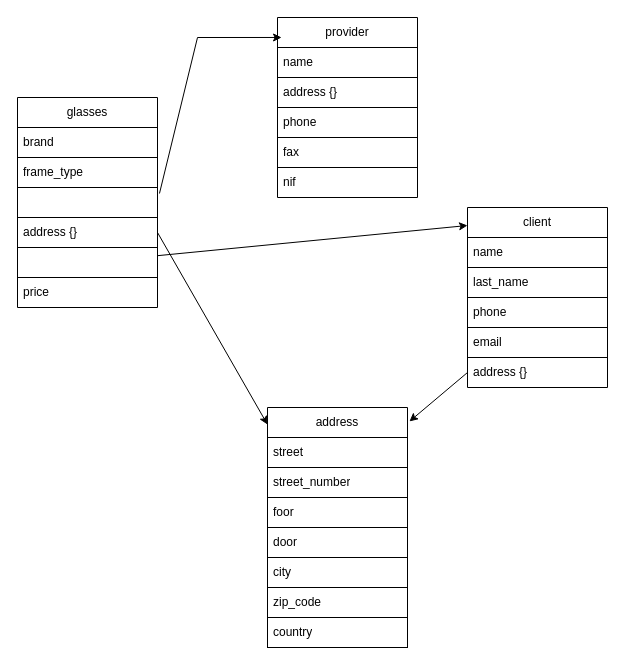
Some shapes in this 625 by 665 pixel diagram are drawn without their labels. The shapes that lost their labels are listed below. From the top down, each one's centre as x and y in pixels, then its label:
At point 87,202: "provider {}".
At point 87,262: "client {}".
